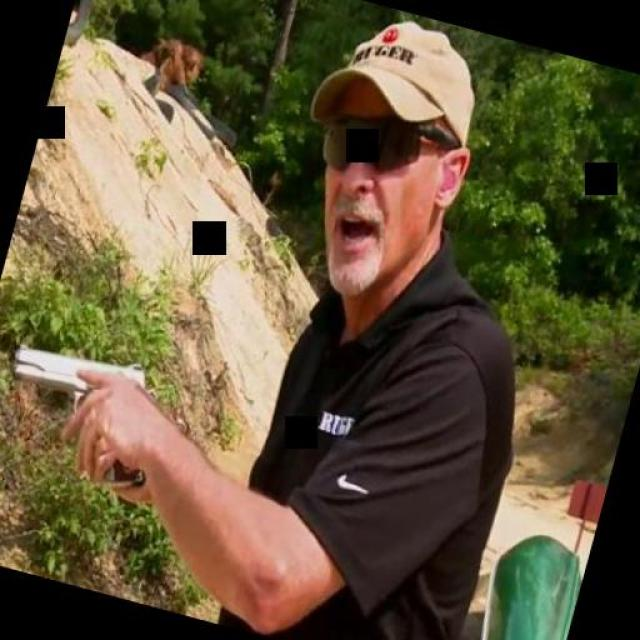gun: (0, 327, 172, 494)
